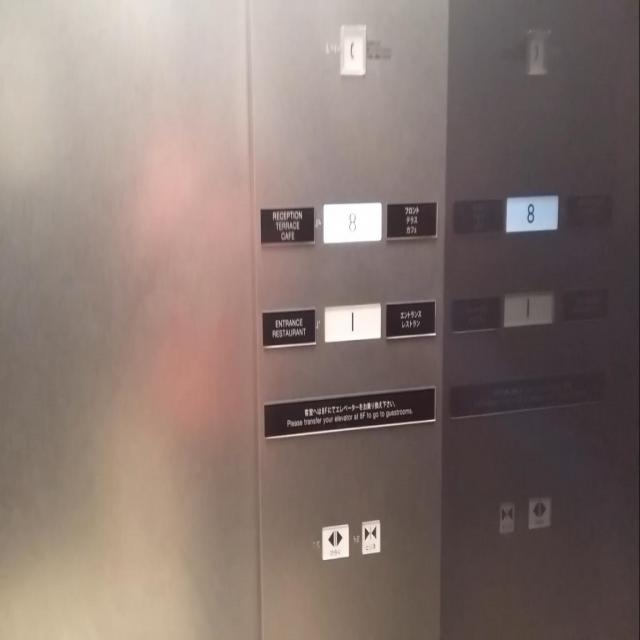1: (323, 300, 383, 344), (503, 290, 555, 326)
8: (322, 198, 383, 245), (505, 192, 559, 232)
call: (339, 23, 366, 75), (524, 27, 550, 76)
close: (361, 516, 382, 555), (496, 498, 516, 534)
open: (321, 522, 349, 562), (526, 492, 552, 532)
